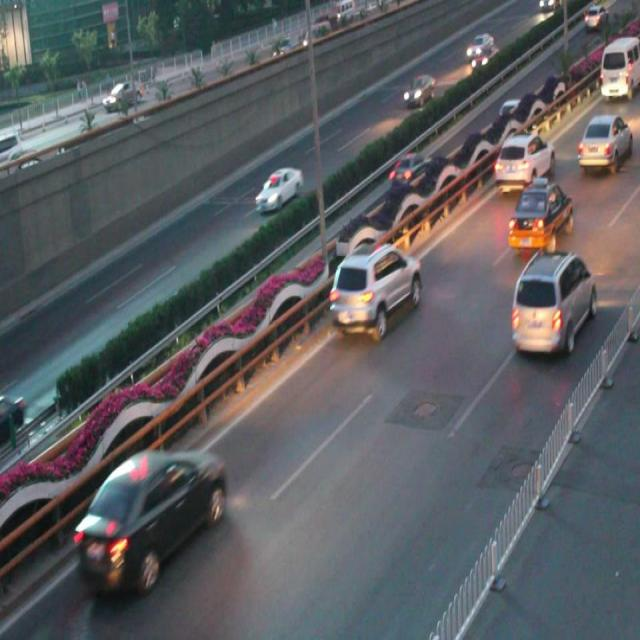car: (75, 449, 226, 593), (332, 239, 422, 339), (510, 250, 596, 352), (506, 180, 573, 254), (493, 132, 554, 192), (576, 115, 631, 172), (254, 164, 304, 214), (389, 147, 430, 191), (1, 384, 28, 448), (402, 70, 434, 110)
